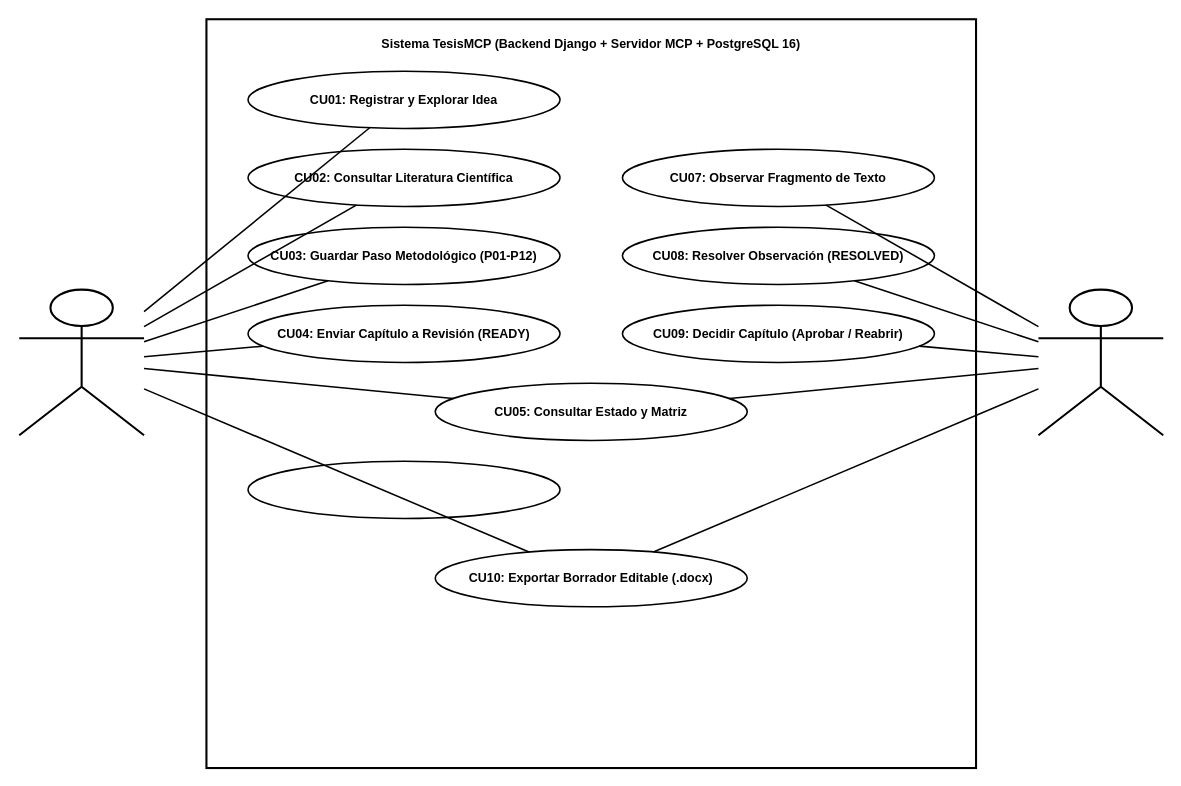
Image size: 1181x786. Some labels were removed from this diagram. The centre of each missing label's shape, as x and y in pixels:
"CU06: Asignar Asesor al Proyecto" goes at [403,489].
"DOCENTE ASESOR (Revisor / Jurado)" goes at [1100,362].
"TESISTA (Estudiante Titular)" goes at [81,362].
